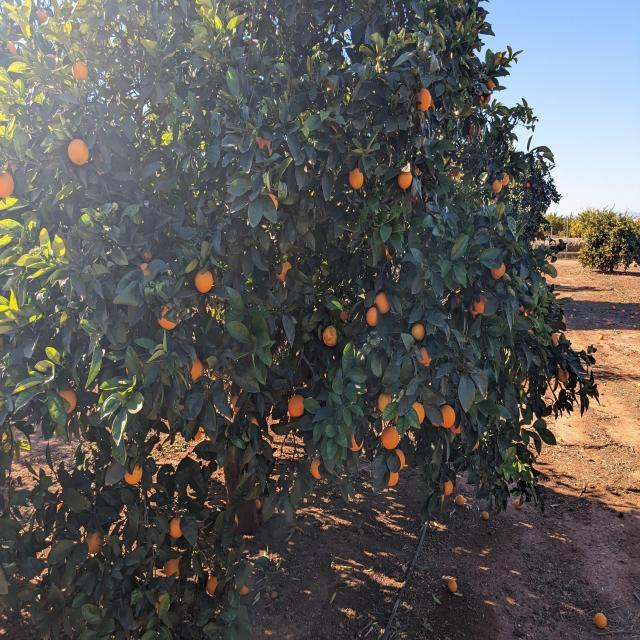Jeruk Sudah Matang: (158, 303, 180, 330), (68, 138, 88, 166), (58, 389, 78, 412), (194, 270, 213, 294), (85, 532, 104, 554), (184, 358, 203, 380), (382, 426, 399, 450), (288, 394, 306, 416), (124, 463, 142, 485), (255, 136, 273, 156), (375, 292, 391, 314), (276, 260, 292, 282), (440, 406, 456, 428), (322, 326, 338, 348), (0, 171, 14, 196), (168, 517, 184, 538), (349, 168, 364, 190), (163, 558, 181, 576), (72, 60, 88, 80), (416, 346, 432, 366), (412, 400, 424, 425), (378, 393, 392, 413), (492, 260, 506, 280), (394, 448, 406, 471), (419, 89, 431, 112), (398, 172, 413, 190), (349, 433, 364, 451), (474, 295, 488, 314), (366, 308, 379, 328), (206, 575, 218, 595), (46, 54, 61, 70), (312, 458, 322, 481), (440, 479, 453, 496), (412, 324, 424, 340), (268, 193, 278, 210), (37, 9, 48, 23), (450, 422, 462, 434), (232, 394, 240, 412), (470, 123, 481, 136), (558, 369, 569, 382), (388, 472, 398, 486), (500, 172, 510, 185), (8, 42, 16, 56), (194, 428, 202, 441), (494, 180, 502, 192), (482, 91, 490, 102), (551, 332, 557, 344), (488, 78, 494, 89), (474, 438, 479, 449)
